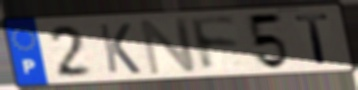2: (48, 23, 95, 80)
5: (242, 12, 291, 71)
F: (187, 15, 242, 74)
K: (96, 22, 144, 76)
N: (137, 16, 200, 77)
T: (292, 12, 333, 66)
